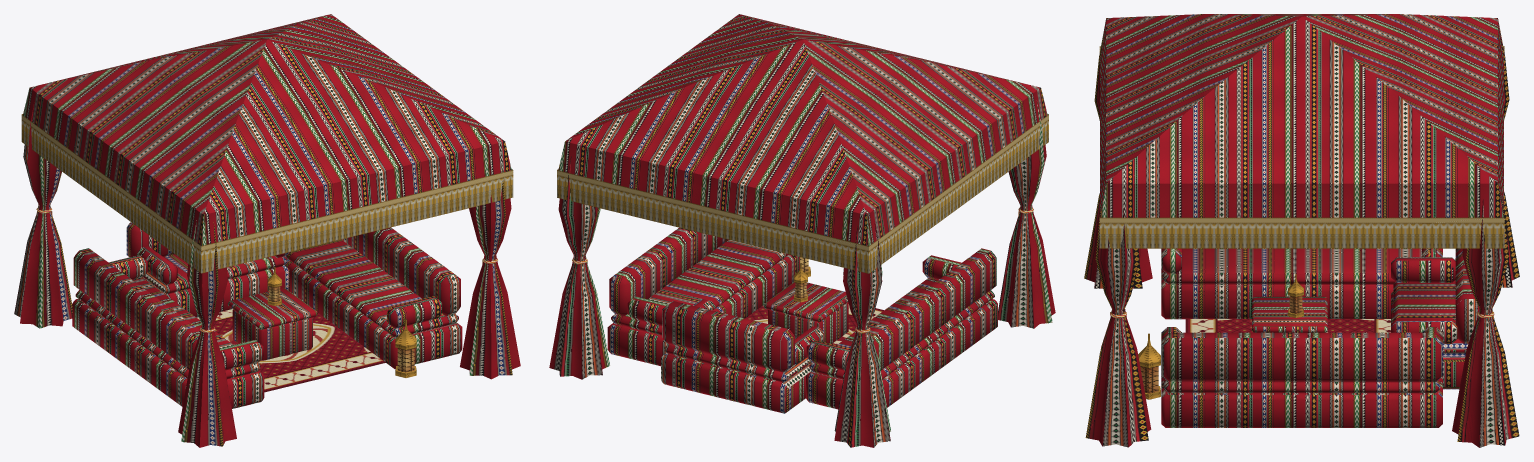
The model's file is SM_MajlisTent.fbx.
The picture shows the model from 3 angles, left to right: view 1: azimuth 30°, elevation 25°; view 2: azimuth 150°, elevation 25°; view 3: azimuth 270°, elevation 25°; orthographic projection. The views are drawn at different scales.
Parts seen in each view (by area): view 1: SM_MajlisTent_LOD0; view 2: SM_MajlisTent_LOD0; view 3: SM_MajlisTent_LOD0.
Boxes of the visible parts, left/top/right/bottom form: SM_MajlisTent_LOD0: left=14, top=14, right=520, bottom=447; SM_MajlisTent_LOD0: left=549, top=14, right=1055, bottom=447; SM_MajlisTent_LOD0: left=1084, top=14, right=1519, bottom=447.
Size of what is drawn, in the model's own units: 3.56 by 3.06 by 3.56.
